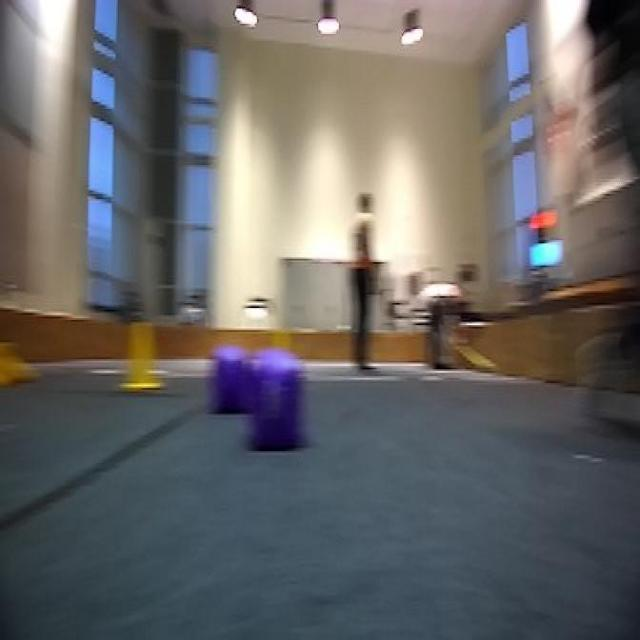frc_cone: (112, 313, 166, 400), (0, 337, 40, 388), (274, 329, 300, 393)
frc_cube: (249, 354, 302, 444), (214, 346, 252, 414)
